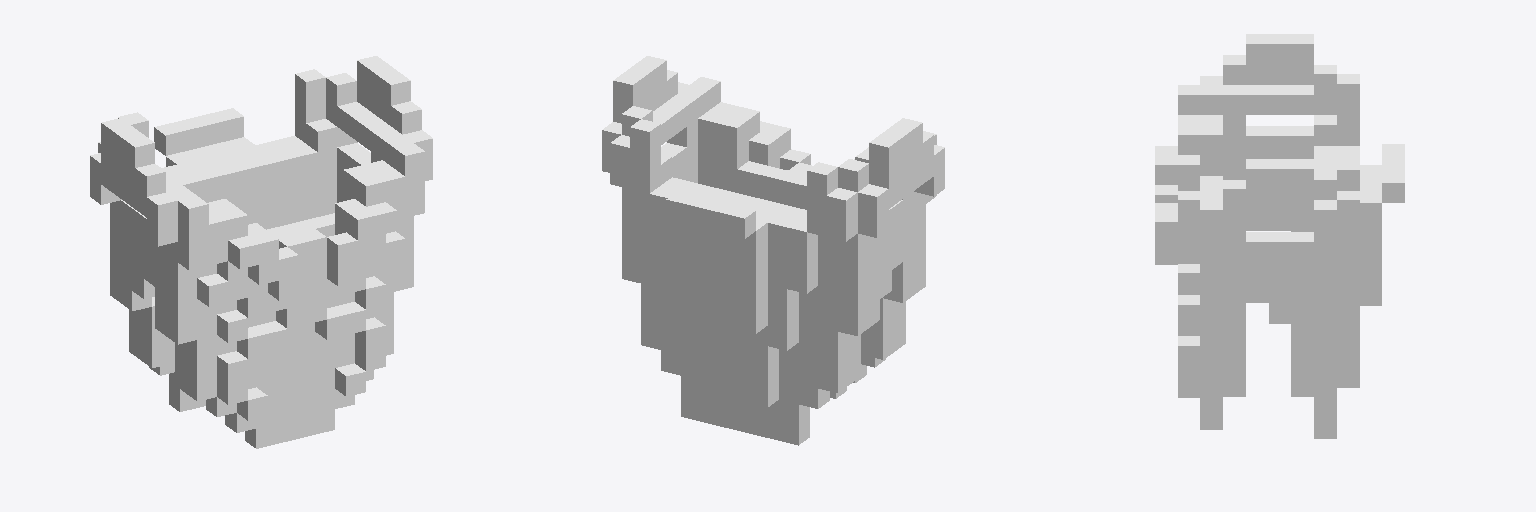
File: DaedraArmorChestplateGrudBlat.obj
3 views of the same model, side by side, from view 1: azimuth 30°, elevation 25°; view 2: azimuth 150°, elevation 25°; view 3: azimuth 270°, elevation 25° (orthographic).
Bounding box in the file's own units: 14 × 15 × 11.